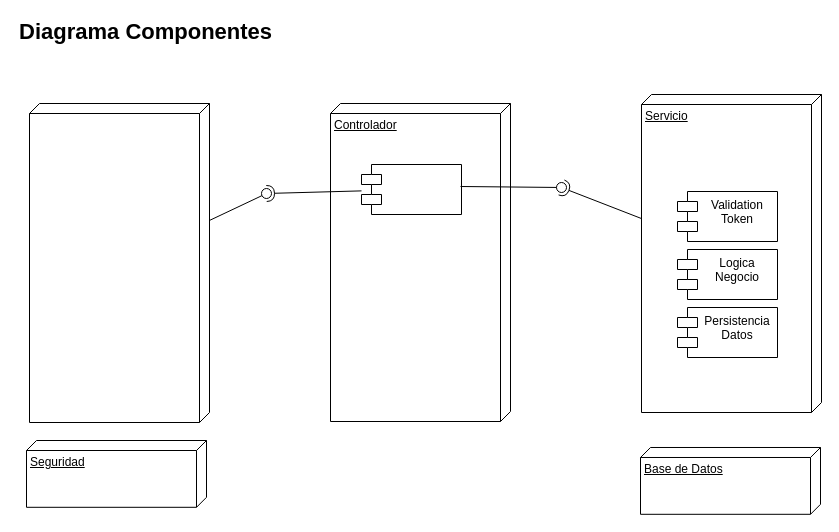
This 839x532 diagram has some shape labels left out. Here are the shapes that lost their labels. From the top down, the centre of each, then its label:
the point at 411,189: Api Gateway
the point at 119,262: Cliente
